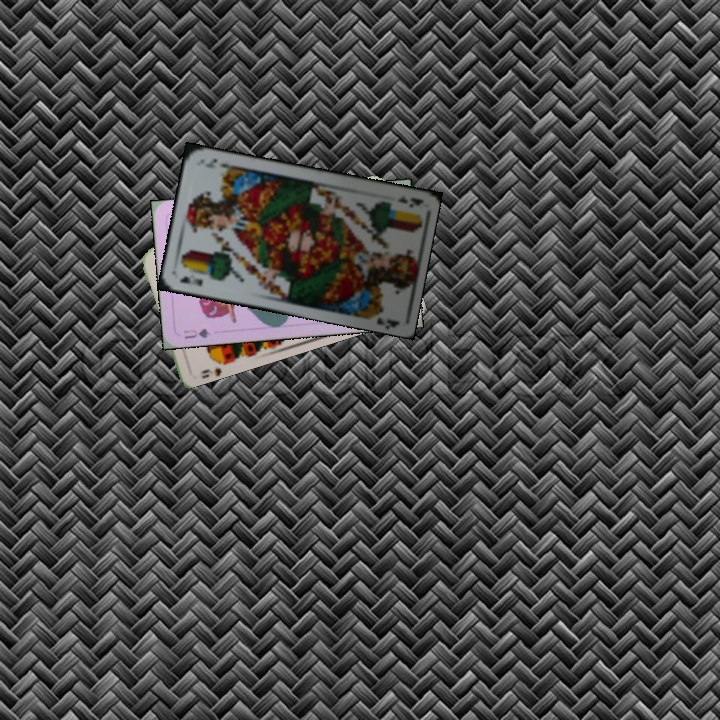EK: (393, 192, 424, 210), (176, 272, 206, 289)
GU: (180, 324, 213, 341)
S9: (196, 352, 229, 380)
